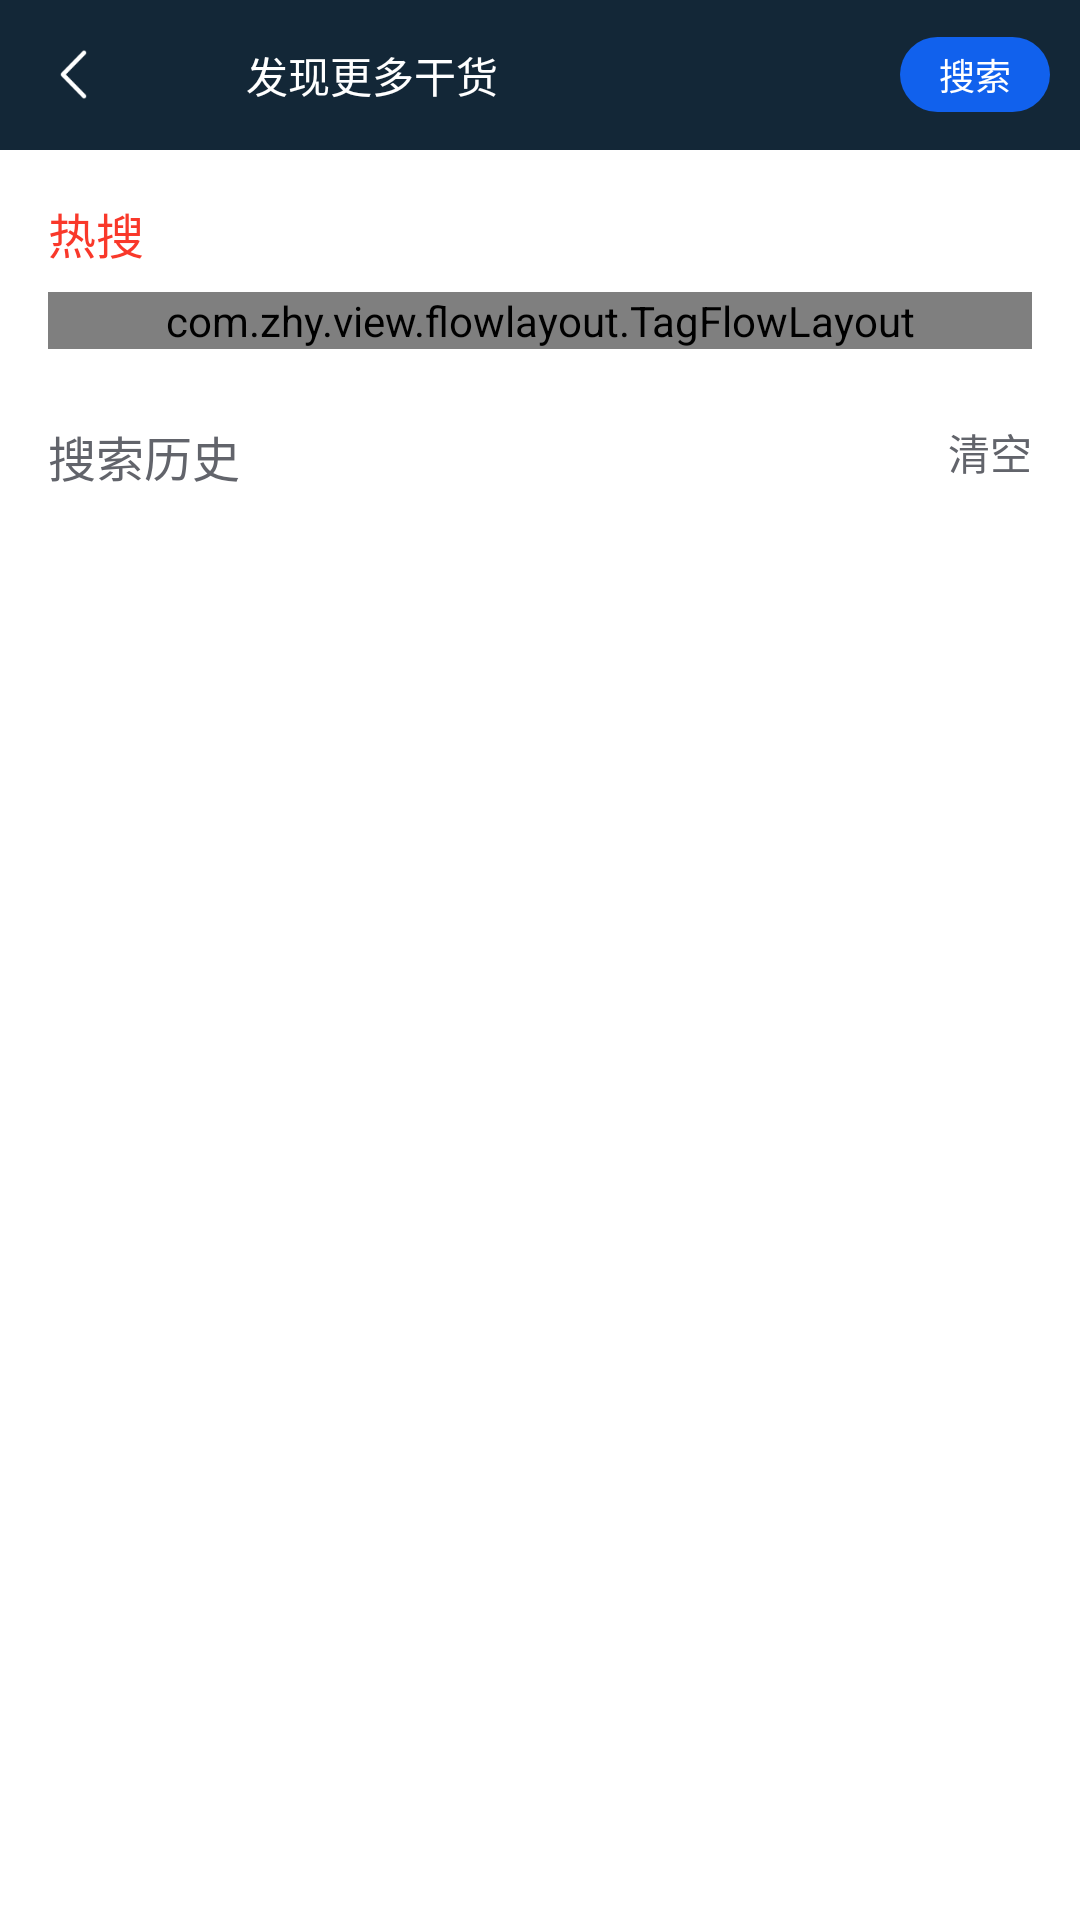

Icons on this 1080 x 1920 Android screen, each with the point to tap as (x,y):
left arrow: (73,74)
